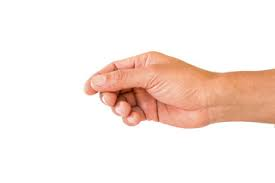hand: (68, 26, 227, 146)
